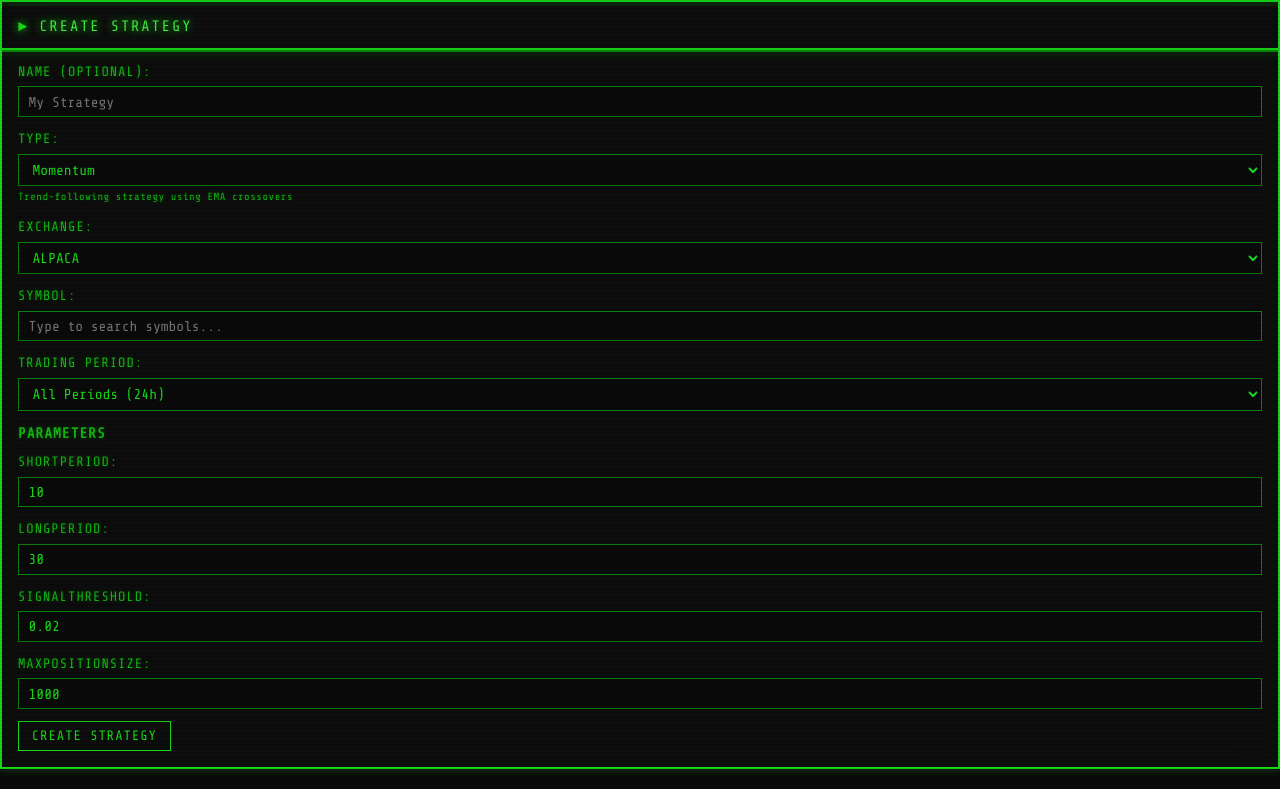
Test: StrategyForm › populates default parameters from API when type changes
Expected: the field showing "10" below "shortPeriod" is shown, left=18, top=477, right=1262, bottom=507
Expected: the field showing "30" below "longPeriod" is shown, left=18, top=544, right=1262, bottom=575
# Switch to ema_adx_rsi
Select "EMA + ADX + RSI" in the dropdown showing "Momentum" below "Type:" at (640,170), box left=18, top=154, right=1262, bottom=186
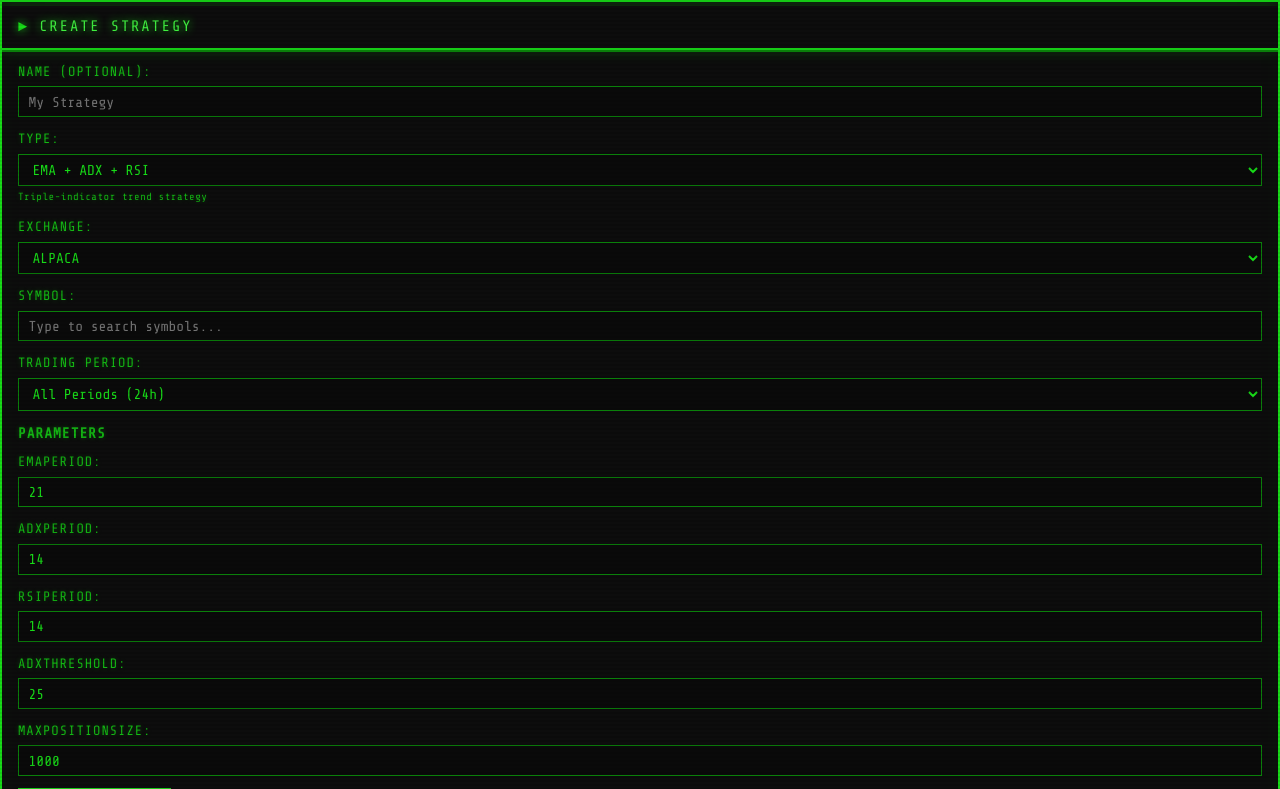
Result: the text "emaPeriod:" is shown at left=18, top=454, right=101, bottom=469
Result: the field showing "21" below "emaPeriod" is shown at left=18, top=477, right=1262, bottom=507
Result: the number of fields showing "14" is 2 at left=18, top=544, right=1262, bottom=575; left=18, top=611, right=1262, bottom=642
